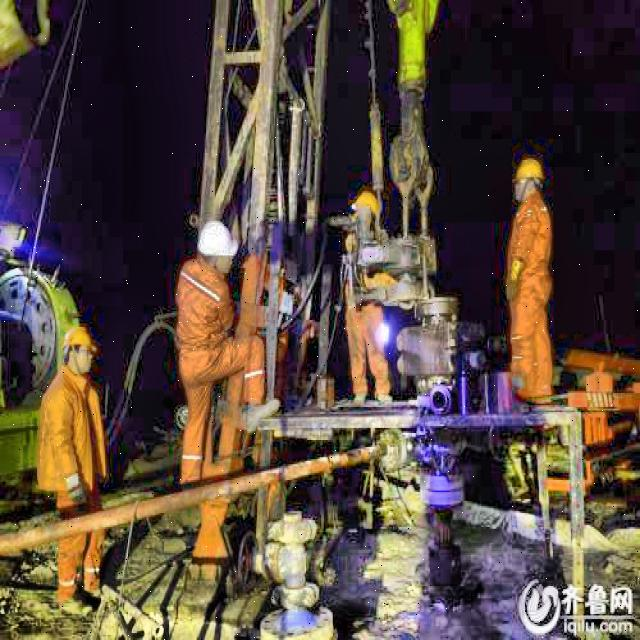helmet: (512, 152, 554, 216), (196, 219, 237, 275), (64, 320, 98, 379)
